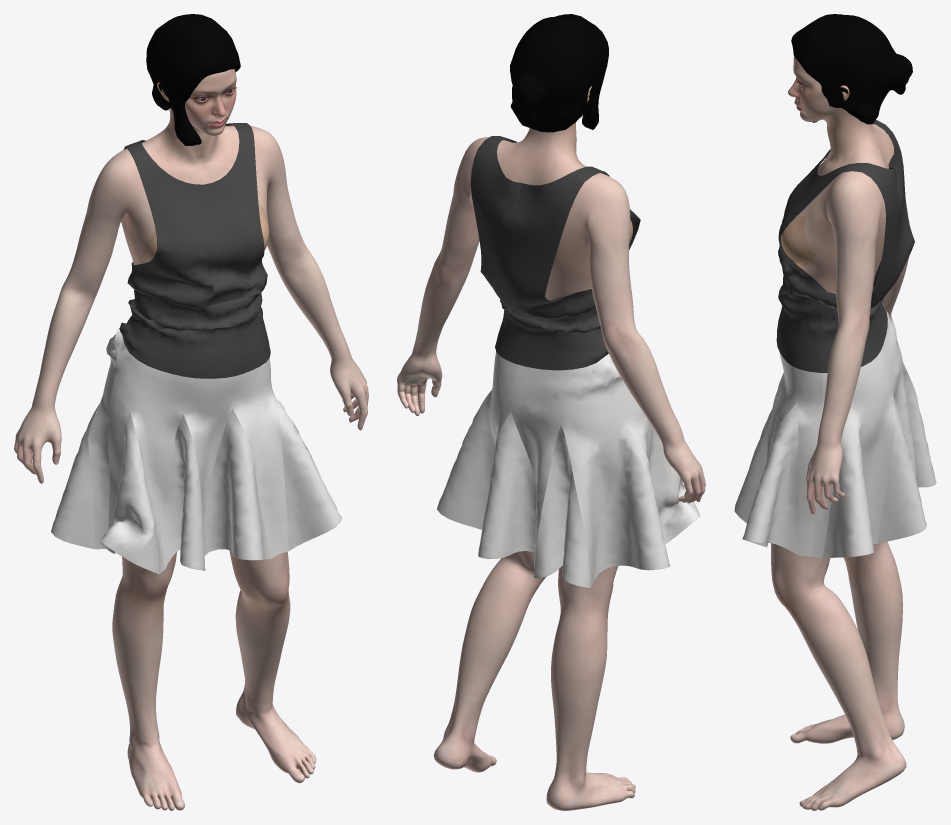
File: Custom_View_3__FV2_07.obj
The picture shows the model from 3 angles, left to right: view 1: azimuth 30°, elevation 25°; view 2: azimuth 150°, elevation 25°; view 3: azimuth 270°, elevation 25°; orthographic projection. The views are drawn at different scales.
Size of the model in its own units: 775 by 1773 by 435.
